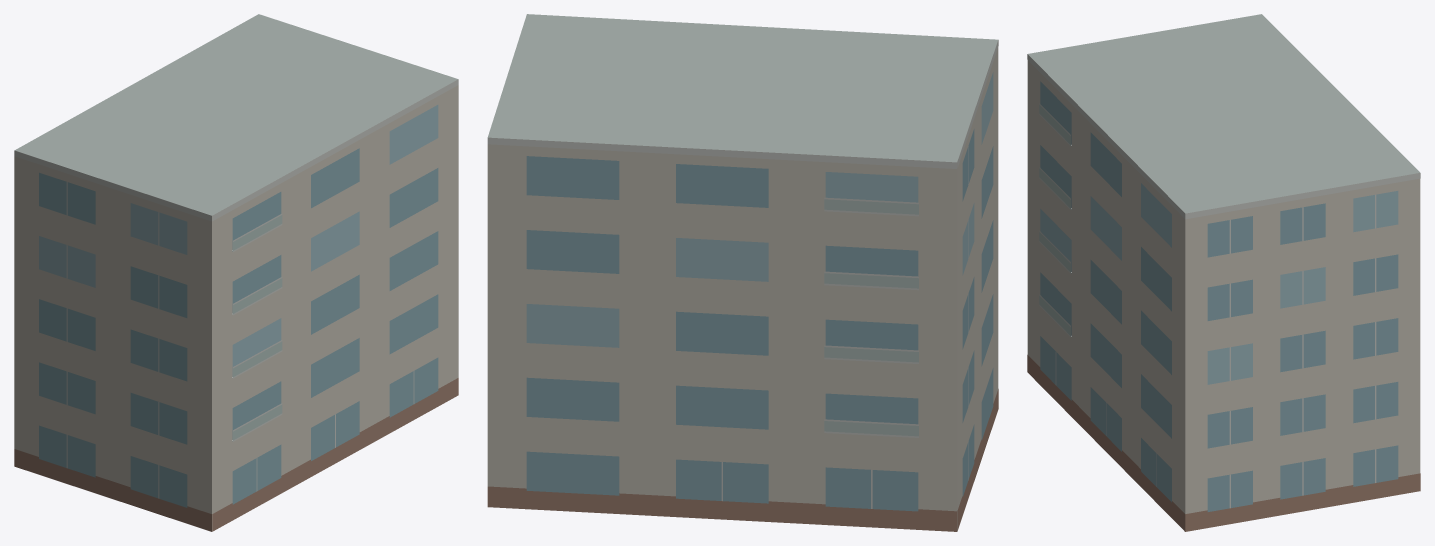
Rendered from survey-upis-32925516.glb.
3 views of the same model, side by side, from view 1: azimuth 30°, elevation 25°; view 2: azimuth 150°, elevation 25°; view 3: azimuth 270°, elevation 25° (orthographic). The views are drawn at different scales.
Visible parts, largest first — view 1: survey-upis-32925516.tmp; view 2: survey-upis-32925516.tmp; view 3: survey-upis-32925516.tmp.
Boxes of the visible parts, box(x1,y1,x2,y2) form: survey-upis-32925516.tmp: box(14, 14, 458, 531); survey-upis-32925516.tmp: box(487, 14, 998, 531); survey-upis-32925516.tmp: box(1027, 14, 1420, 531).
Bounding box in the file's own units: 18.04 × 13.41 × 15.01.
